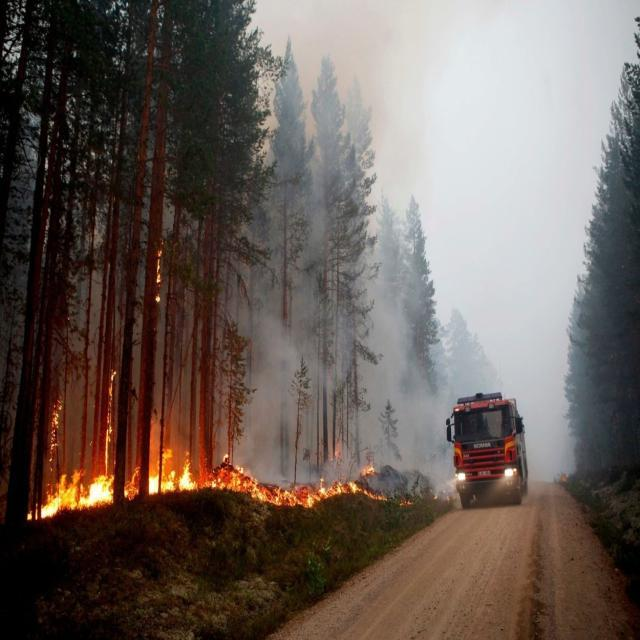Fire: (28, 369, 114, 520), (211, 452, 388, 510), (148, 447, 198, 497), (124, 464, 141, 500), (154, 247, 164, 304)
Smoke: (60, 1, 578, 510)
